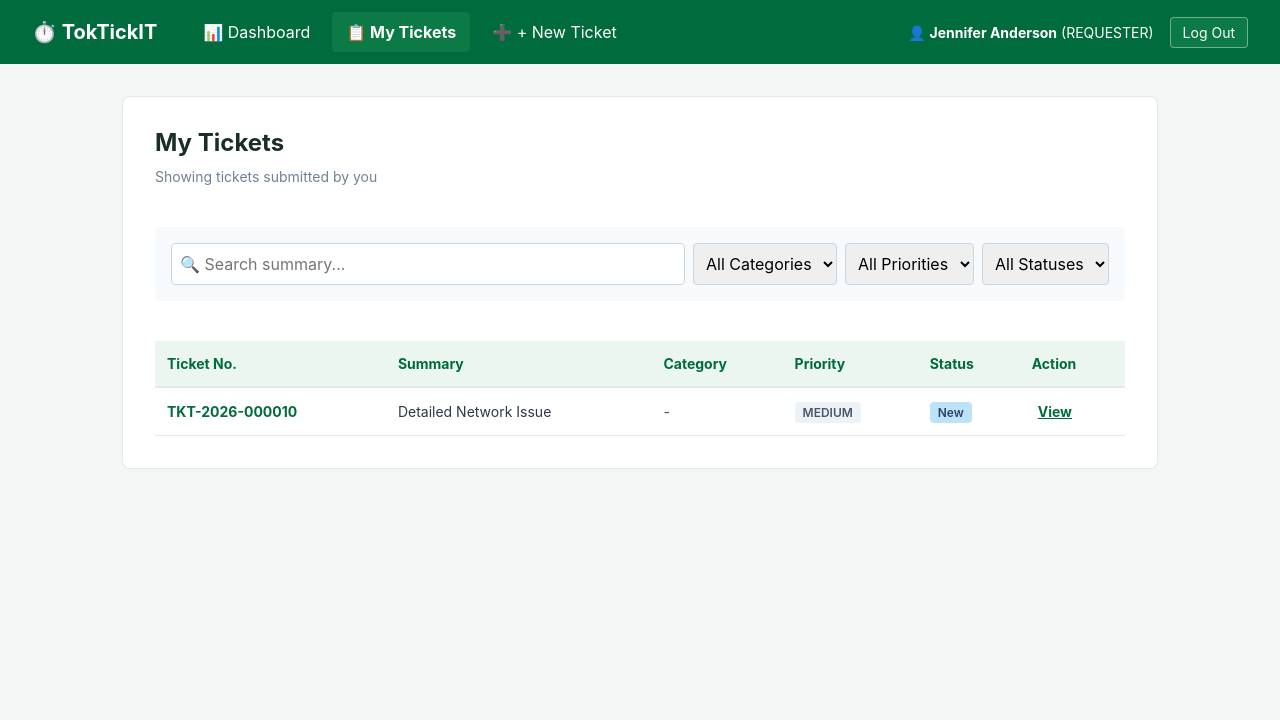
Scenario: Requester Ticket Detail View (Section 8.7) › navigates to ticket detail and renders full description
Click the button "View".
click(1055, 411)  # box [1032, 400, 1078, 423]
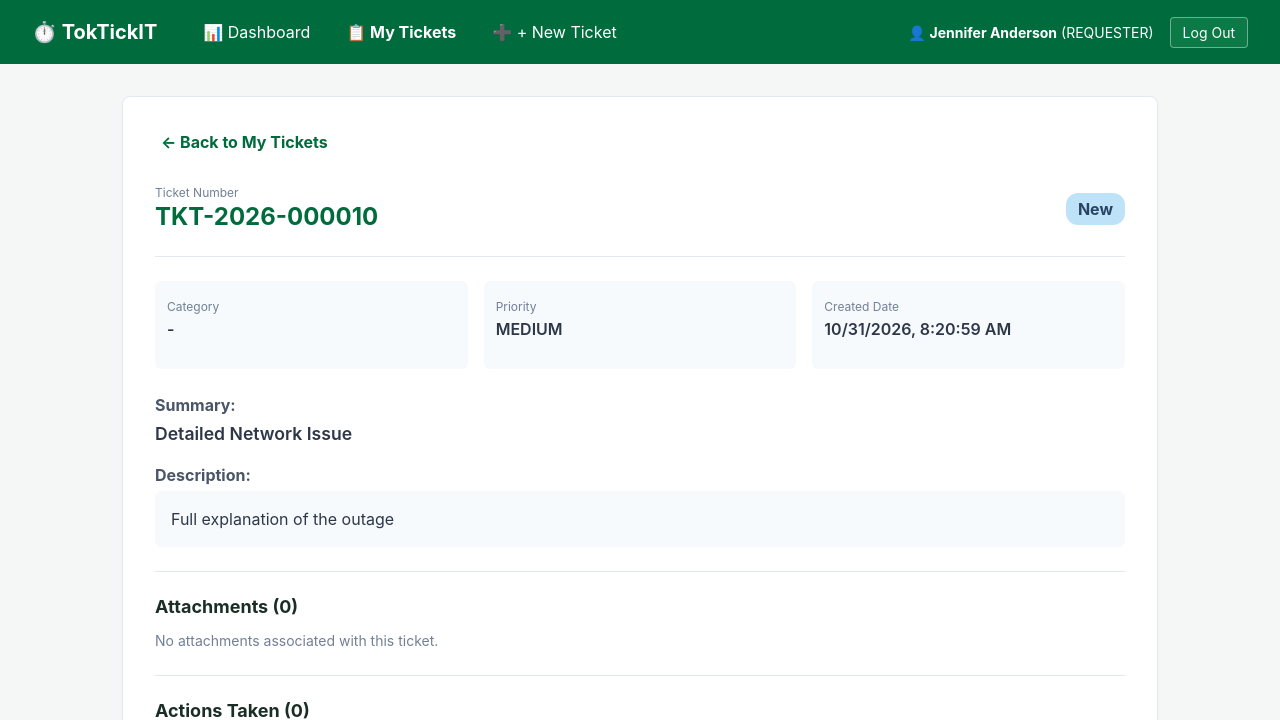
Now the text "Full explanation of the outage" is shown, box [155, 491, 1125, 547]
